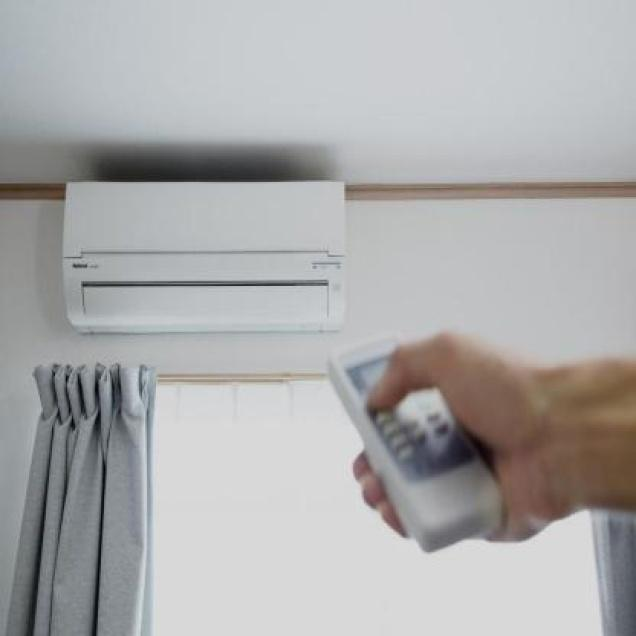AC: (59, 178, 349, 333)
